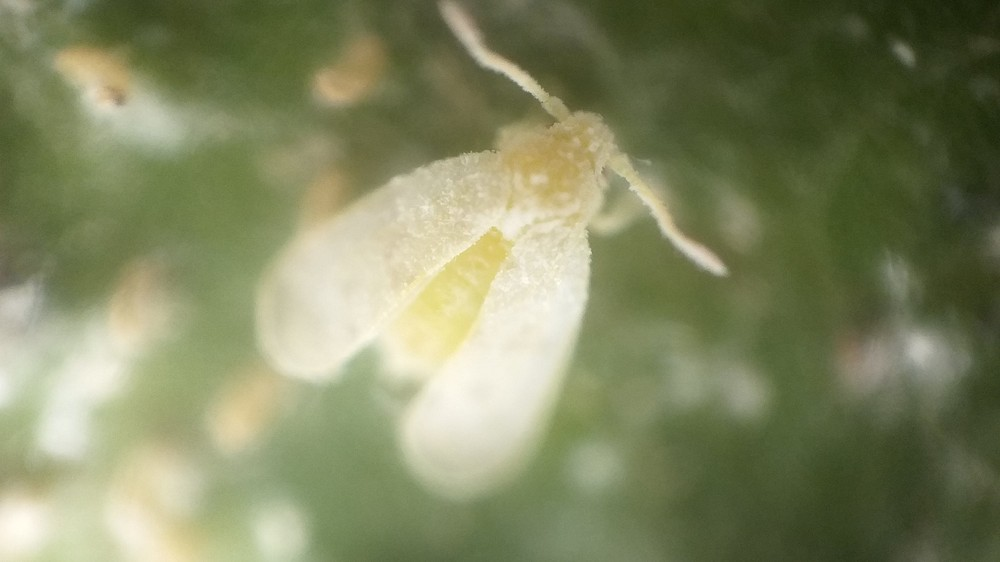Mosca Blanca: (239, 6, 723, 475)
